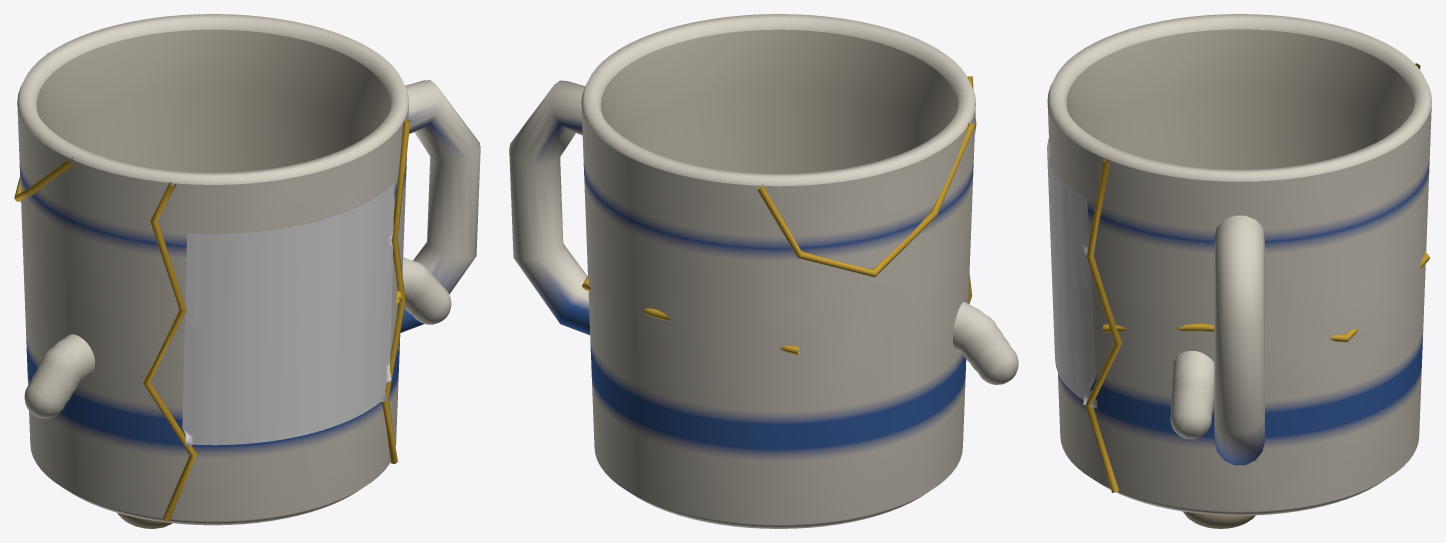
Rendered from folk2_mug_lod1.glb.
3 renders of one model, left to right at view 1: azimuth 30°, elevation 25°; view 2: azimuth 150°, elevation 25°; view 3: azimuth 270°, elevation 25°, orthographic. The views are drawn at different scales.
Parts seen in each view (by area): view 1: mug_body, mug_face, mug_arm_l, mug_arm_r; view 2: mug_body, mug_arm_l; view 3: mug_body, mug_face, mug_arm_r, mug_foot_r.
Part boxes in pixels (left/top/right/bottom): mug_body: left=14, top=14, right=480, bottom=525; mug_face: left=182, top=183, right=394, bottom=446; mug_arm_l: left=24, top=334, right=94, bottom=418; mug_arm_r: left=402, top=257, right=451, bottom=324; mug_body: left=509, top=14, right=976, bottom=528; mug_arm_l: left=953, top=301, right=1018, bottom=384; mug_body: left=1047, top=14, right=1431, bottom=515; mug_face: left=1047, top=138, right=1097, bottom=408; mug_arm_r: left=1170, top=351, right=1214, bottom=439; mug_foot_r: left=1182, top=511, right=1255, bottom=528.
Size of the model in its own units: 1.11 by 0.8977 by 0.7922.
